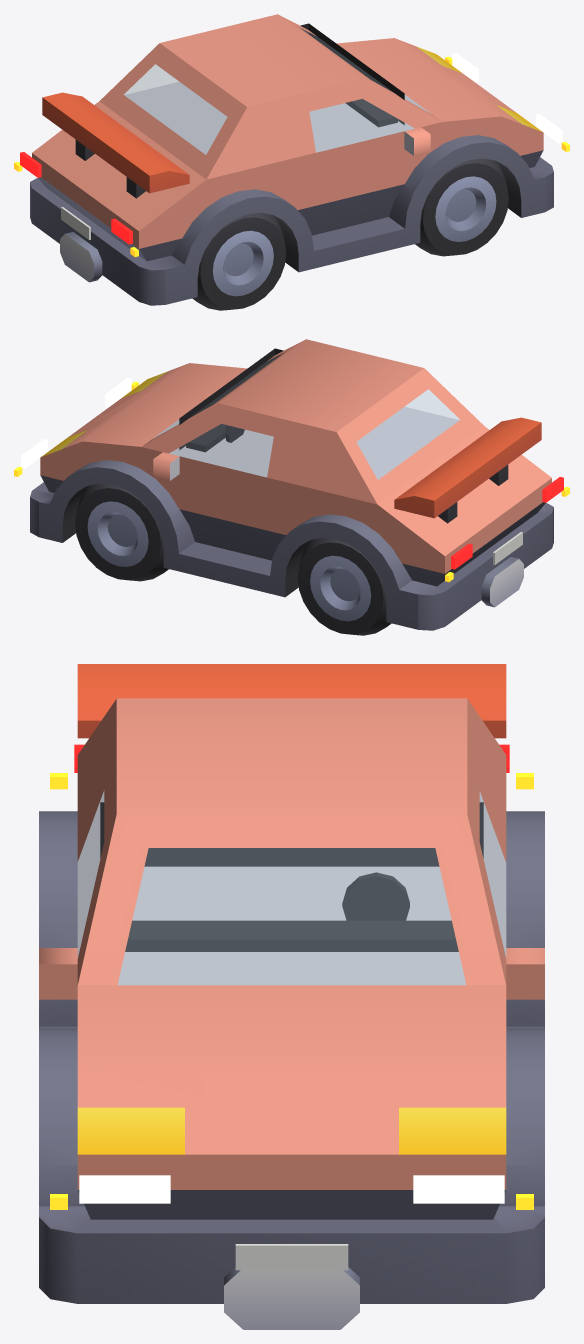
Rendered from veh_sport.glb.
3 views of the same model, one above another, from view 1: azimuth 30°, elevation 25°; view 2: azimuth 150°, elevation 25°; view 3: azimuth 270°, elevation 25° (orthographic). The views are drawn at different scales.
Parts seen in each view (by area): view 1: body, wheel_rr, wheel_fr, trim_spoiler, interior, light_head, light_tail, interior_dash, plate_rear; view 2: body, wheel_rl, wheel_fl, trim_spoiler, interior, light_head, light_tail, interior_dash, plate_rear; view 3: body, trim_spoiler, interior_dash, interior, light_head, plate_front, interior_steer.
Part boxes in pixels (bbox=[...]): body: bbox=[30, 14, 553, 305]; wheel_rr: bbox=[192, 212, 286, 310]; wheel_fr: bbox=[415, 158, 508, 256]; trim_spoiler: bbox=[42, 92, 189, 198]; interior: bbox=[300, 23, 404, 124]; light_head: bbox=[452, 52, 562, 143]; light_tail: bbox=[20, 152, 132, 244]; interior_dash: bbox=[345, 99, 397, 127]; plate_rear: bbox=[61, 207, 90, 239]; body: bbox=[30, 339, 553, 630]; wheel_rl: bbox=[297, 537, 391, 635]; wheel_fl: bbox=[75, 483, 168, 581]; trim_spoiler: bbox=[394, 417, 541, 523]; interior: bbox=[179, 348, 283, 449]; light_head: bbox=[21, 377, 131, 468]; light_tail: bbox=[451, 477, 563, 569]; interior_dash: bbox=[186, 424, 225, 452]; plate_rear: bbox=[493, 532, 522, 564]; body: bbox=[39, 698, 544, 1329]; trim_spoiler: bbox=[77, 664, 506, 738]; interior_dash: bbox=[125, 920, 458, 951]; interior: bbox=[100, 802, 483, 866]; light_head: bbox=[79, 1175, 504, 1203]; plate_front: bbox=[235, 1244, 348, 1270]; interior_steer: bbox=[342, 872, 409, 920].
Bounding box in the file's own units: 4.45 × 1.9 × 2.24.
Materials: 9 (1 with a texture image).
